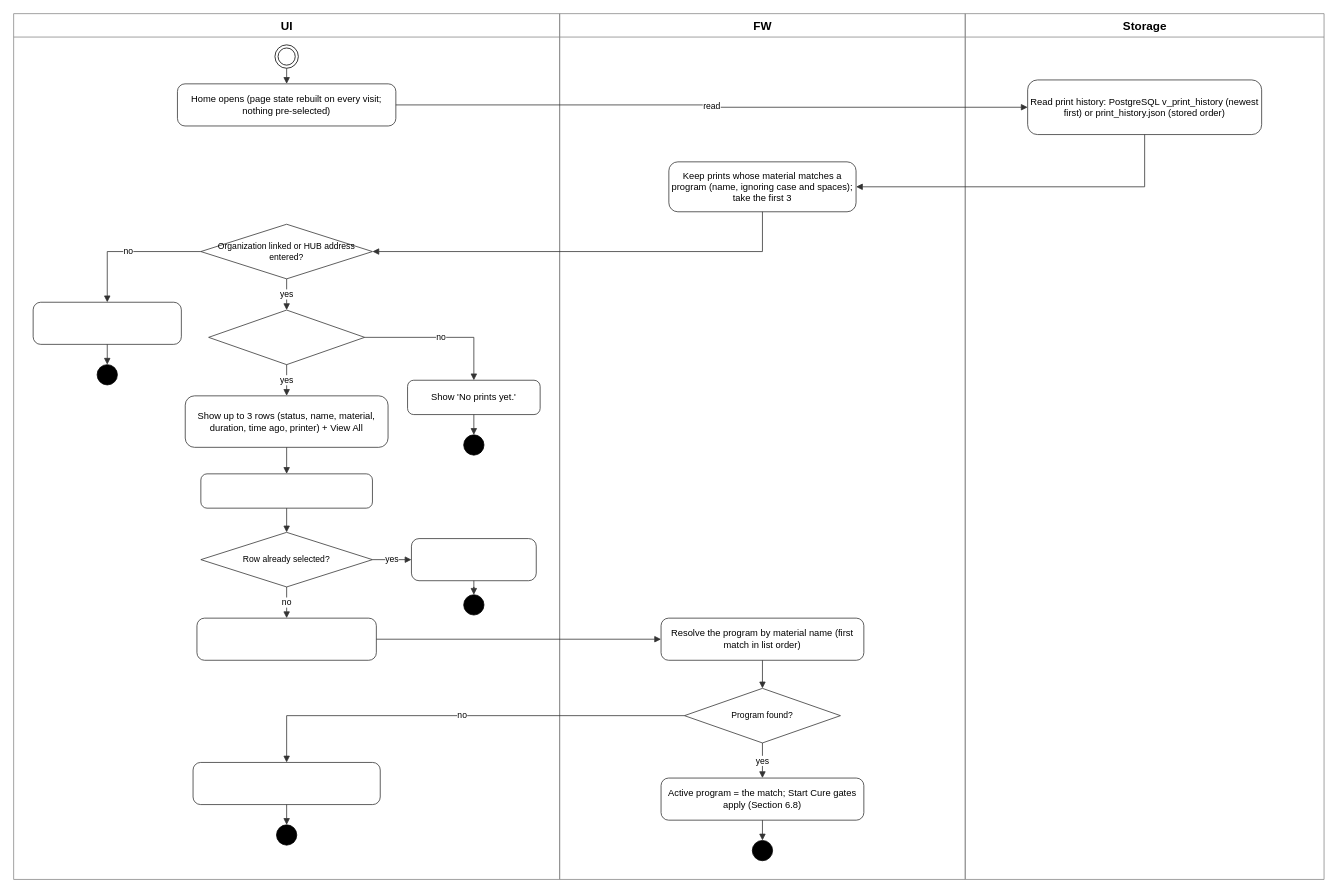
Some shapes in this 1338 by 893 pixel diagram are drawn without their labels. Each missing label, with the centre of its shape:
Any prints?: the point at 286,337
Deselect it; no active program: the point at 473,559
No active program: Start Cure looks disabled (no hint): the point at 286,783
Operator taps a print row: the point at 286,490
Select the print; clear the Program List selection: the point at 286,638
Show 'No organization' card; hide View All: the point at 106,322
